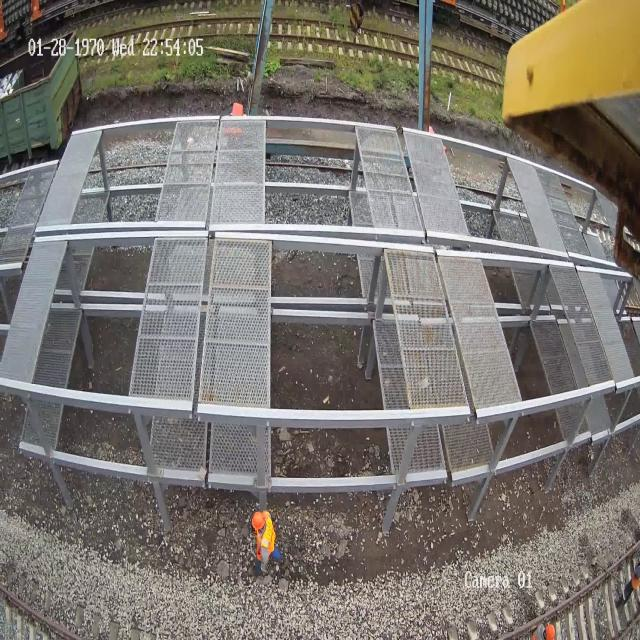Helmet: (538, 615, 562, 640), (252, 510, 265, 530)
Person: (251, 509, 283, 574), (614, 560, 640, 610)
